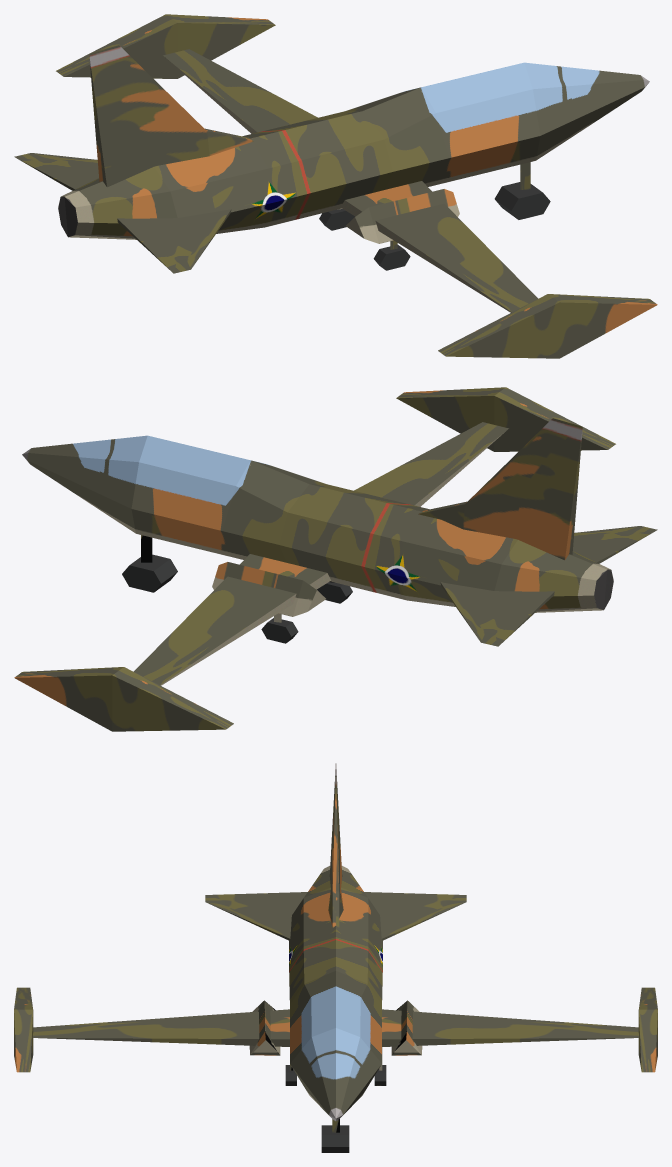
File: CaçaLOD0.fbx
3 renders of one model, top to bottom at view 1: azimuth 30°, elevation 25°; view 2: azimuth 150°, elevation 25°; view 3: azimuth 270°, elevation 25°, orthographic. The views are drawn at different scales.
Visible parts, largest first — view 1: aviao caça LOD0; view 2: aviao caça LOD0; view 3: aviao caça LOD0.
Boxes of the visible parts, box(x1,y1,x2,y2) form: aviao caça LOD0: box(14, 14, 657, 358); aviao caça LOD0: box(14, 387, 657, 731); aviao caça LOD0: box(14, 763, 657, 1152).
Size of the model in its own units: 740 by 319 by 863.
